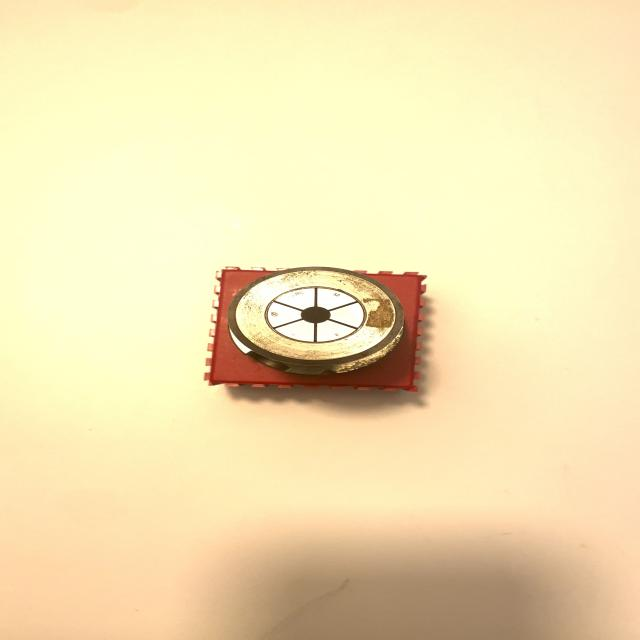Filled_Slot: (227, 267, 404, 375)
